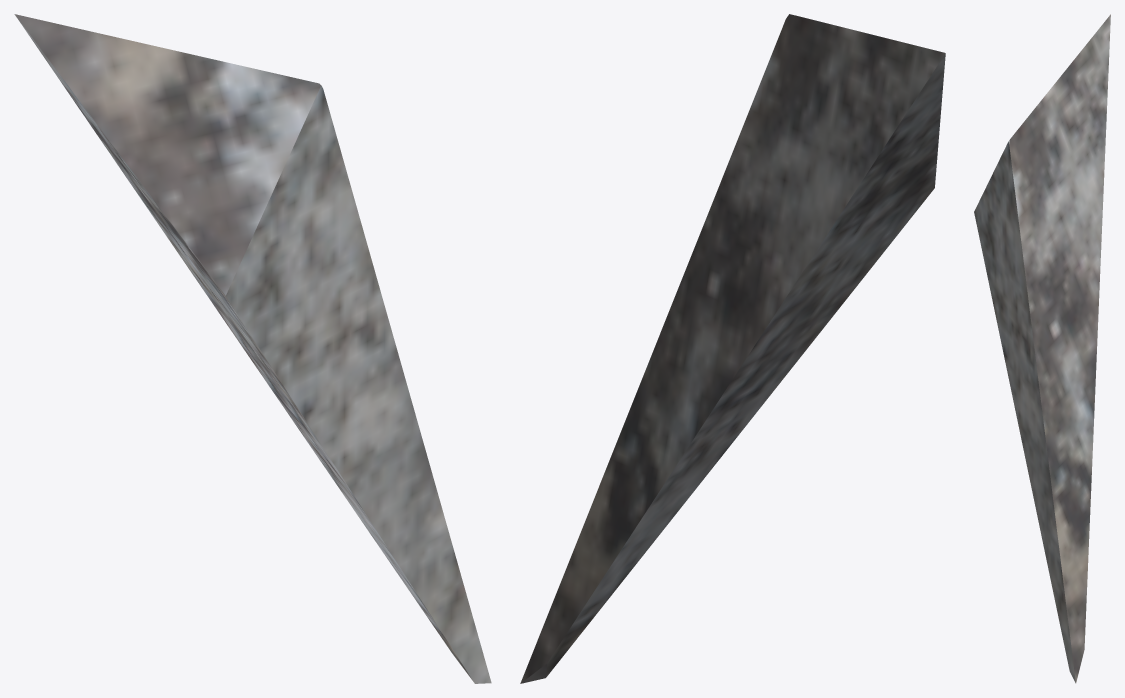
Rendered from Asteroid_Medium_001_02_005_03_005.fbx.
3 renders of one model, left to right at view 1: azimuth 30°, elevation 25°; view 2: azimuth 150°, elevation 25°; view 3: azimuth 270°, elevation 25°, orthographic. The views are drawn at different scales.
Visible parts, largest first — view 1: Asteroid_Medium_001_02_005_03_005; view 2: Asteroid_Medium_001_02_005_03_005; view 3: Asteroid_Medium_001_02_005_03_005.
Part boxes in pixels (x1=…): Asteroid_Medium_001_02_005_03_005: x1=14, y1=14, x2=491, y2=683; Asteroid_Medium_001_02_005_03_005: x1=520, y1=14, x2=945, y2=683; Asteroid_Medium_001_02_005_03_005: x1=974, y1=14, x2=1110, y2=683.
Bounding box in the file's own units: 2.87 × 4.61 × 1.1.
